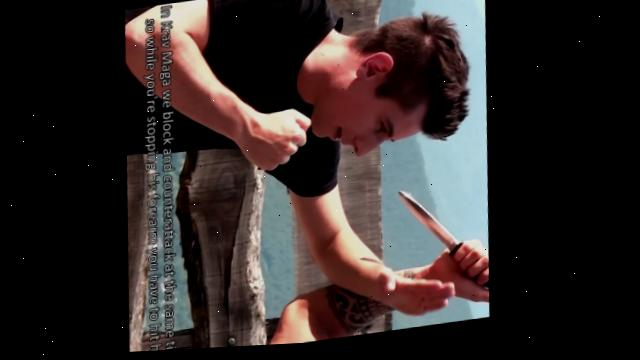pocket-knife: (390, 179, 501, 308)
